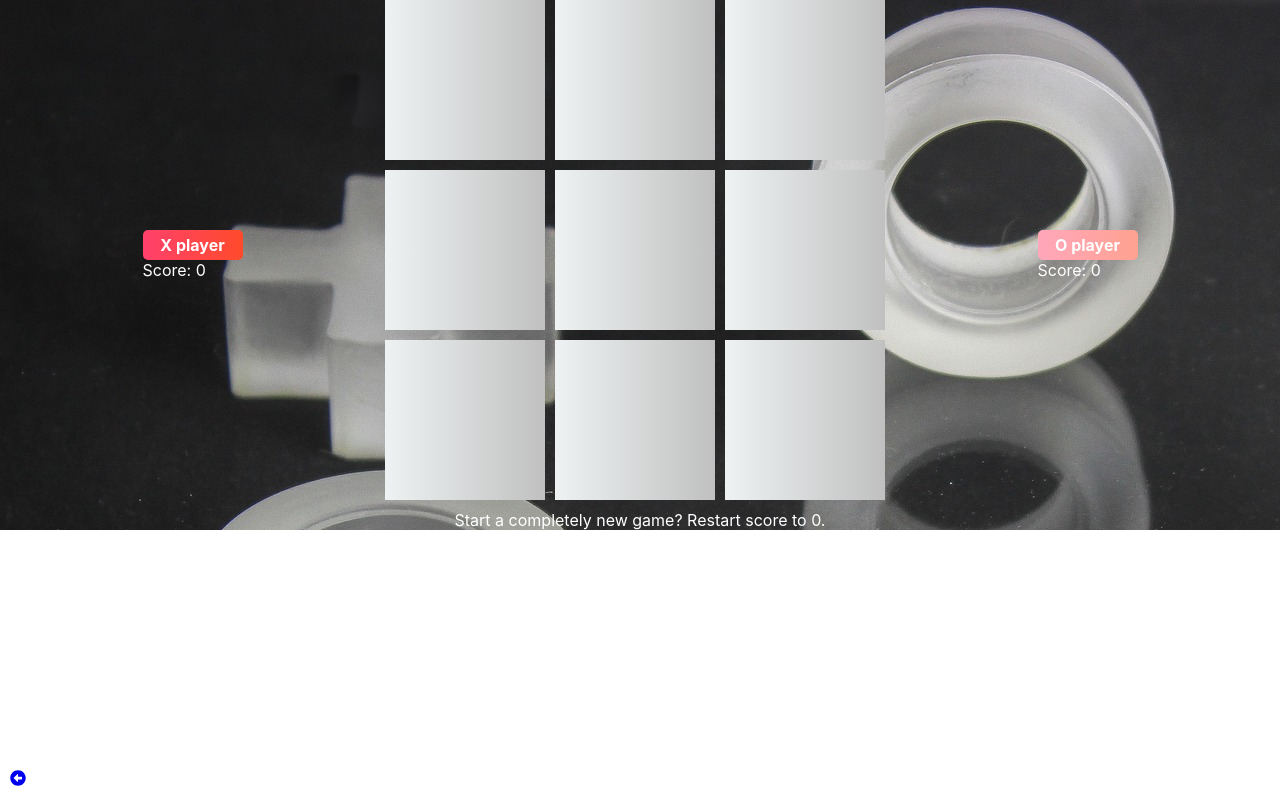
Test: check clicking on game board › X and Y user playes one after other and on right cell on board
The image size is (1280, 800).
Click the element with test id "4" at (635, 250), box [555,170,715,330]
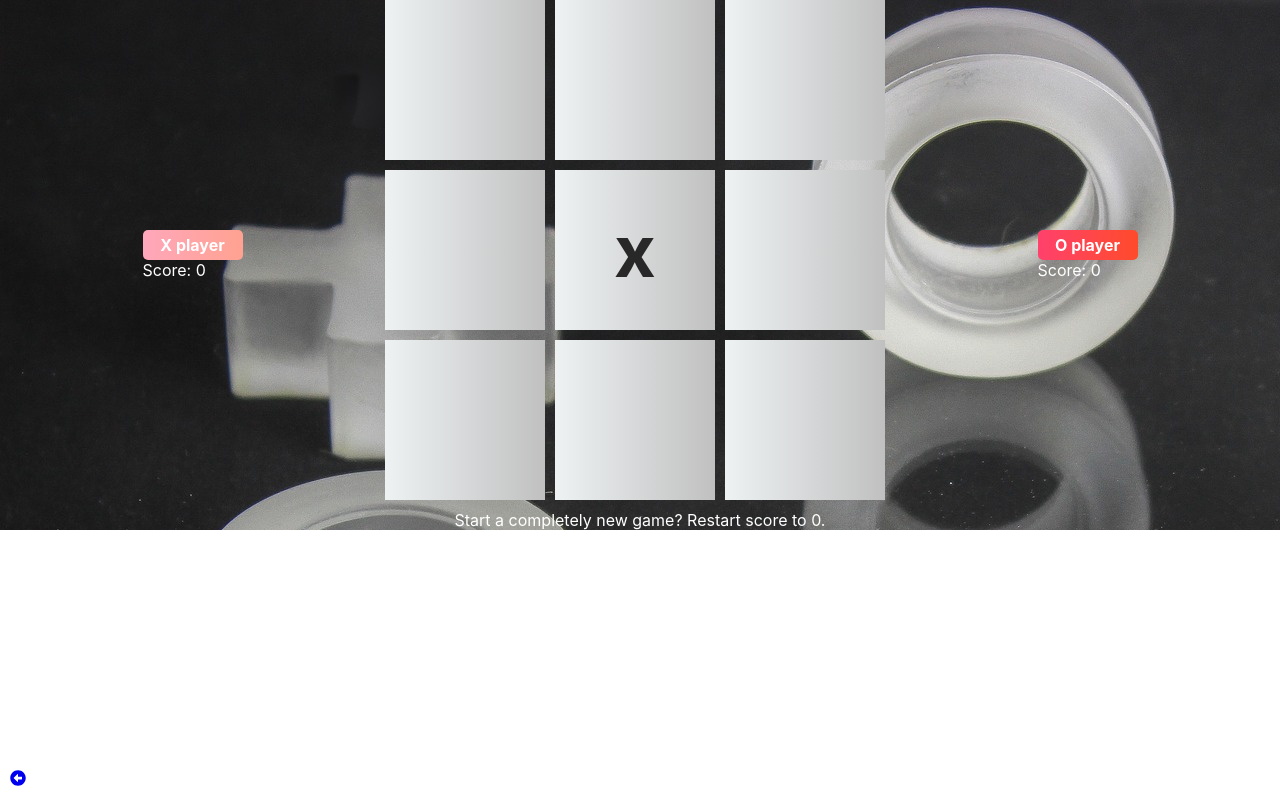
Expected: the text with test id "4" reads "x", [614,206,656,294]
Click the element with test id "5" at (805, 250), box [725,170,885,330]
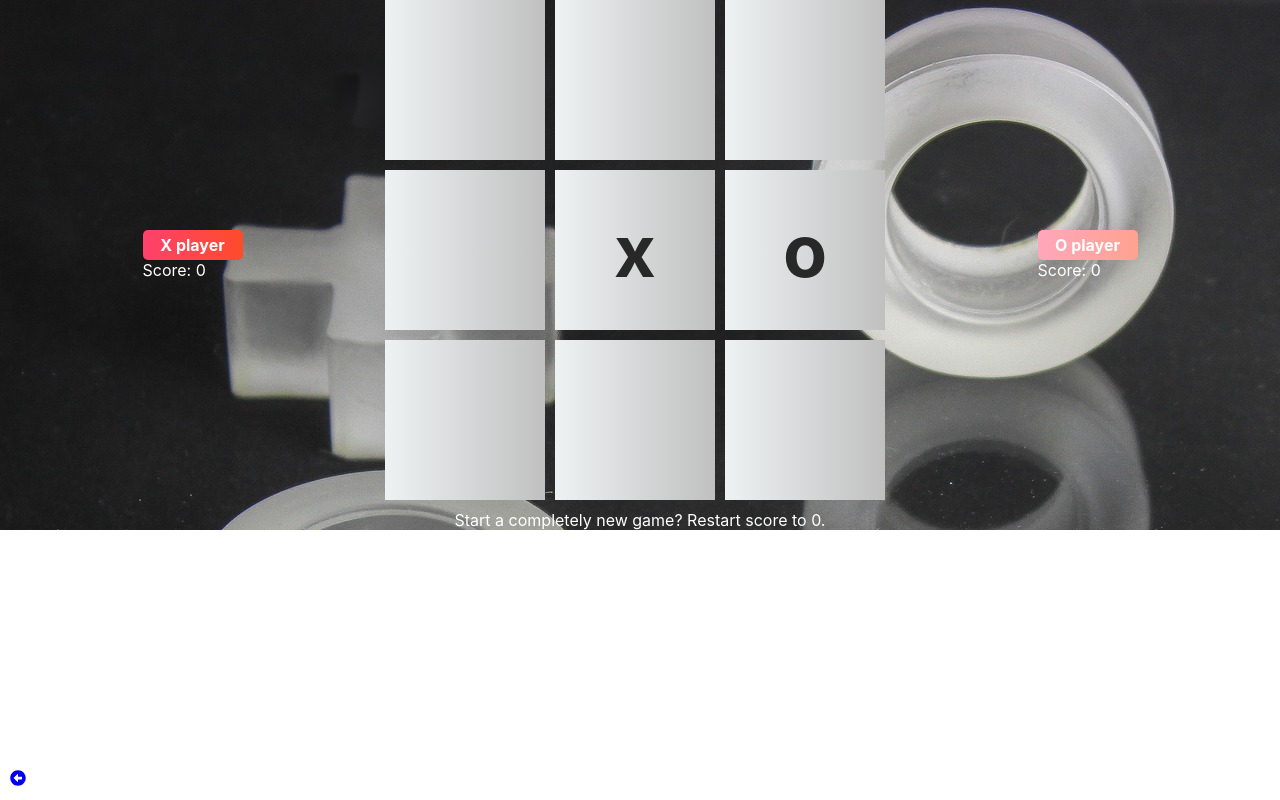
Expected: the text with test id "5" reads "o", [783,206,827,294]
